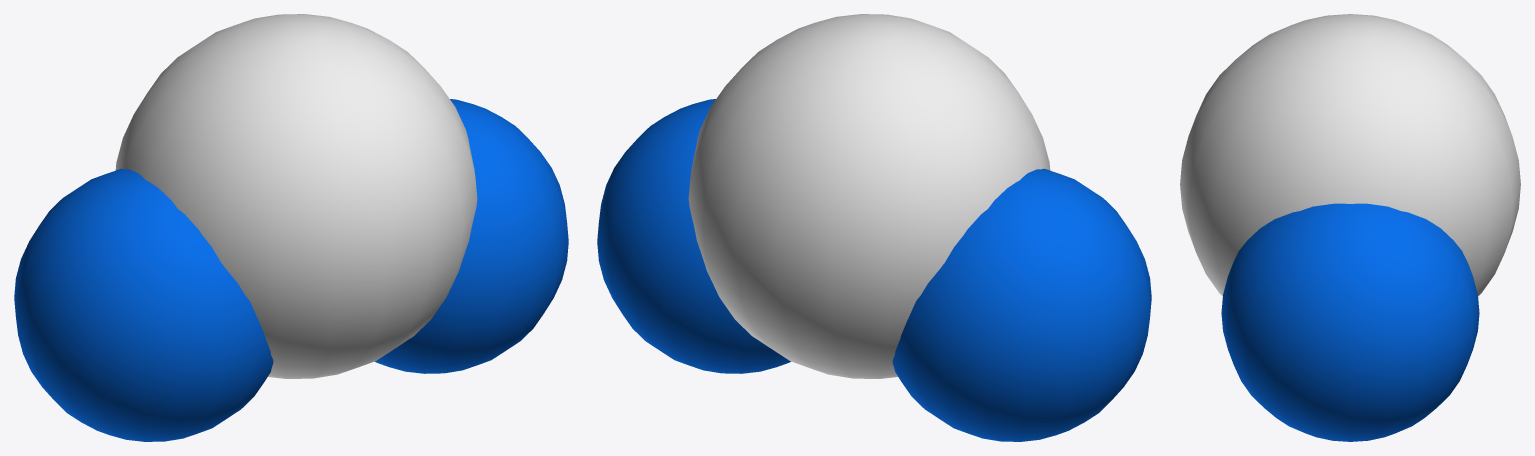
The model's file is h2omol.fbx.
3 views of the same model, side by side, from view 1: azimuth 30°, elevation 25°; view 2: azimuth 150°, elevation 25°; view 3: azimuth 270°, elevation 25° (orthographic). The views are drawn at different scales.
Parts seen in each view (by area): view 1: Oxygen, Hydrogen2, Hydrogen1; view 2: Oxygen, Hydrogen2, Hydrogen1; view 3: Oxygen, Hydrogen1.
Boxes of the visible parts, x1=… form: Oxygen: x1=115, y1=14, x2=477, y2=378; Hydrogen2: x1=14, y1=168, x2=273, y2=441; Hydrogen1: x1=375, y1=99, x2=568, y2=373; Oxygen: x1=688, y1=14, x2=1050, y2=378; Hydrogen2: x1=892, y1=168, x2=1151, y2=441; Hydrogen1: x1=597, y1=99, x2=790, y2=373; Oxygen: x1=1180, y1=14, x2=1520, y2=296; Hydrogen1: x1=1221, y1=203, x2=1479, y2=441.
Bounding box in the file's own units: 4.88 × 3.26 × 2.98.
